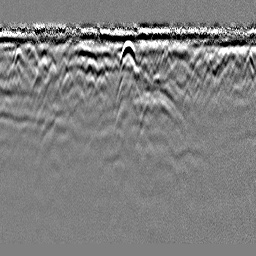cavity: (118, 38, 138, 71)
